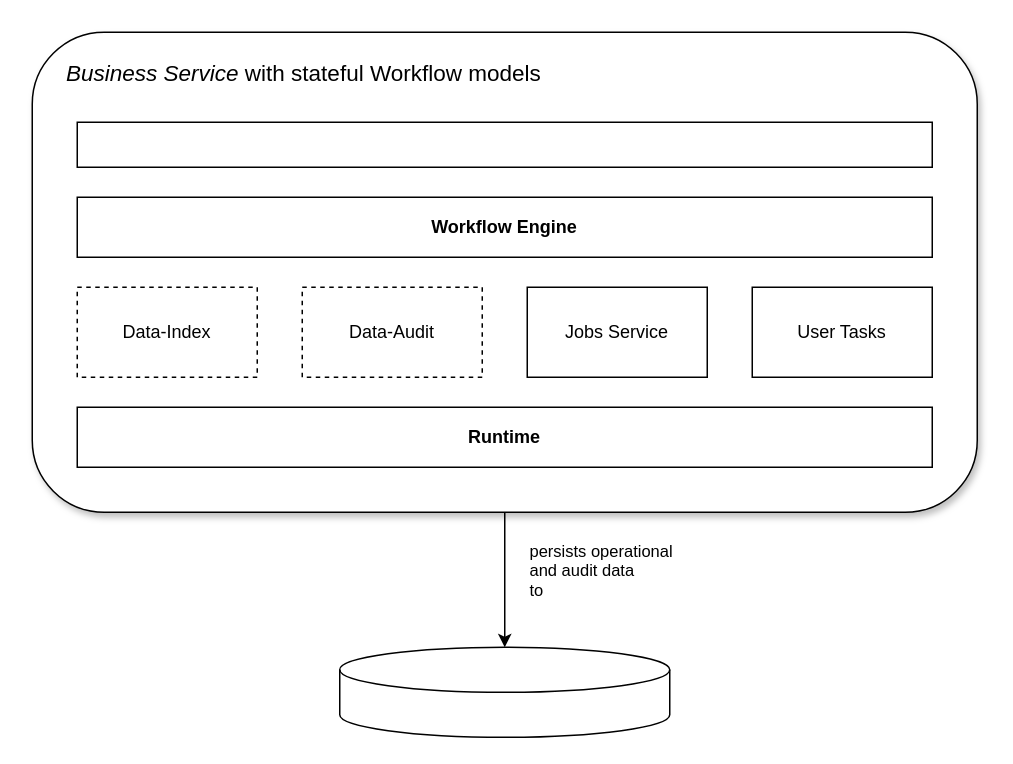
The diagram is 1013 pixels wide and 764 high, and some of its shapes have lost their labels. Each missing label, with the centre of its shape:
"Storage" goes at point 504,691.
"Workflow models (BPMN files)" goes at point 504,144.
